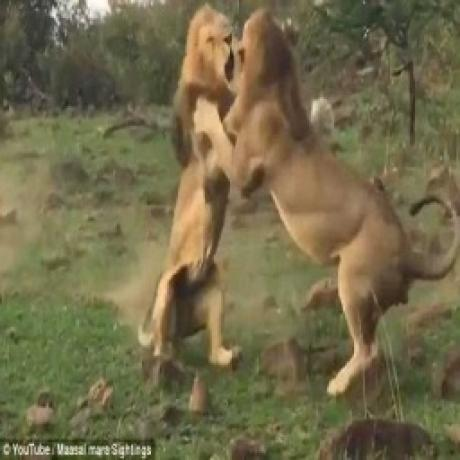Lion: (194, 4, 460, 392), (138, 4, 236, 378)
